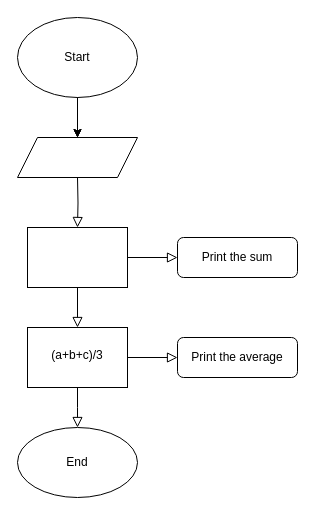
This 315x515 diagram has some shape labels left out. Each missing label, with the box of its shape:
a+b+c: (26, 226, 128, 288)
Input 3 no's: (16, 136, 138, 178)
